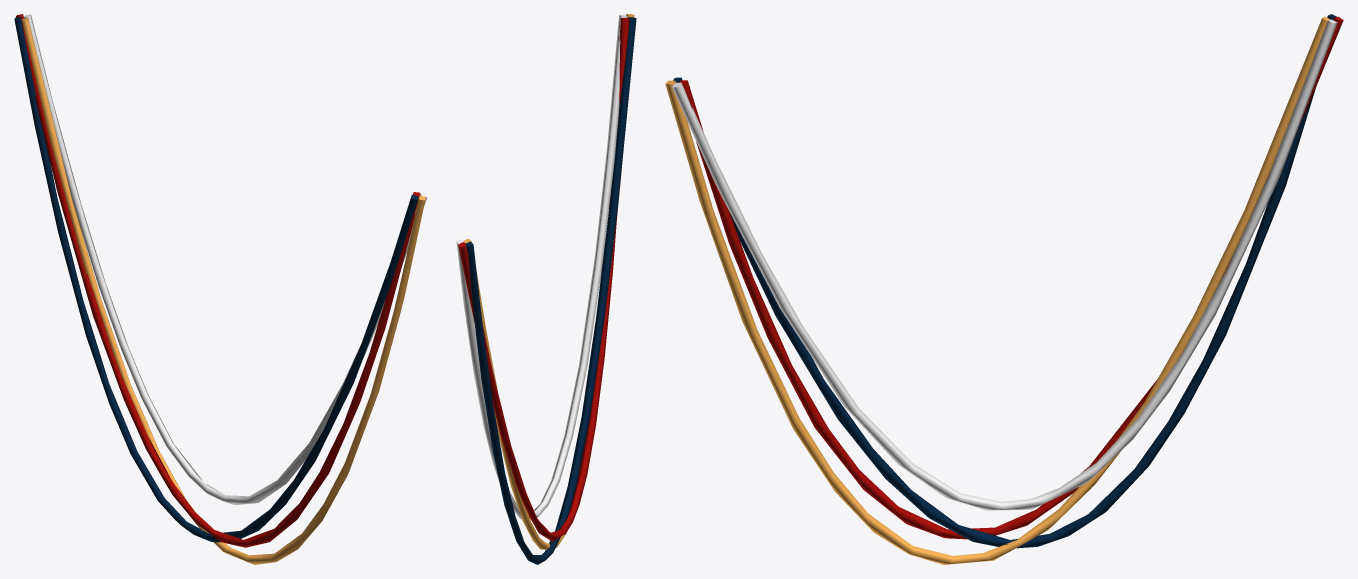
Rendered from cables_big.fbx.
The picture shows the model from 3 angles, left to right: view 1: azimuth 30°, elevation 25°; view 2: azimuth 150°, elevation 25°; view 3: azimuth 270°, elevation 25°; orthographic projection. The views are drawn at different scales.
Parts seen in each view (by area): view 1: cables_big; view 2: cables_big; view 3: cables_big.
Part boxes in pixels (x1=…): cables_big: x1=14, y1=14, x2=427, y2=564; cables_big: x1=456, y1=14, x2=636, y2=564; cables_big: x1=665, y1=14, x2=1343, y2=564.
Bounding box in the file's own units: 55.95 × 181 × 217.
